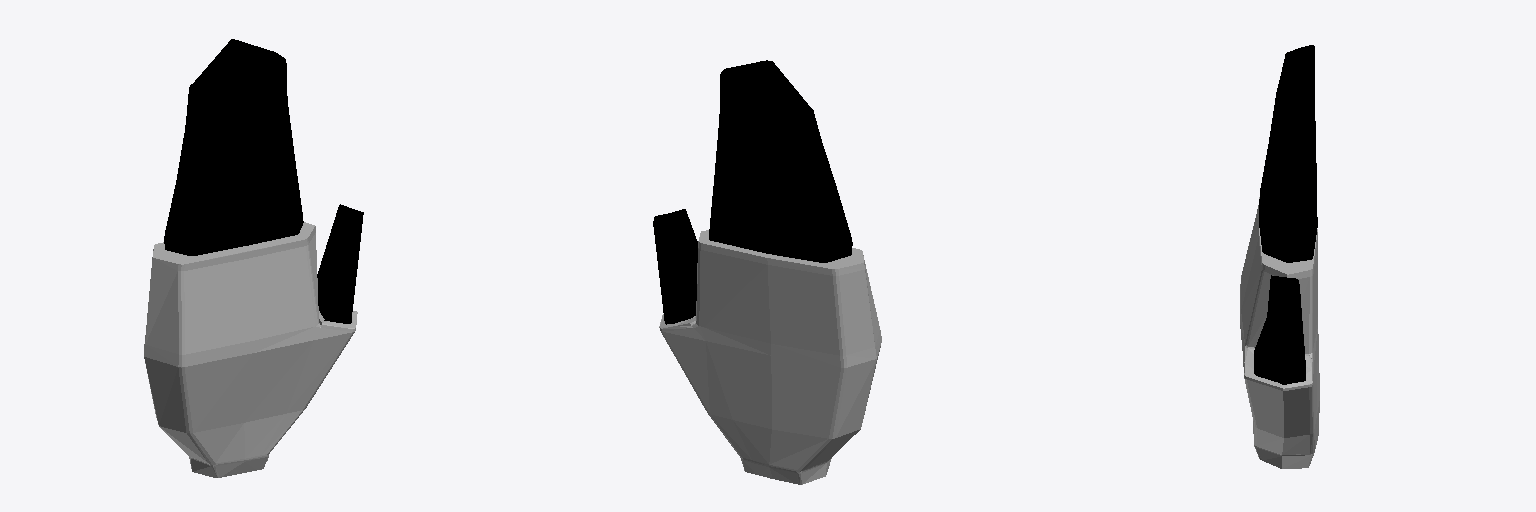
The model's file is Hand_Right.obj.
3 views of the same model, side by side, from view 1: azimuth 30°, elevation 25°; view 2: azimuth 150°, elevation 25°; view 3: azimuth 270°, elevation 25° (orthographic).
Visible parts, largest first — view 1: hand_right, finger_right, thumb_finger_right; view 2: hand_right, finger_right, thumb_finger_right; view 3: hand_right, finger_right, thumb_finger_right.
Boxes of the visible parts, x1,y1,x2,y2 form: hand_right: [144, 222, 357, 477]; finger_right: [164, 39, 303, 255]; thumb_finger_right: [317, 204, 363, 323]; hand_right: [659, 230, 881, 484]; finger_right: [709, 60, 852, 262]; thumb_finger_right: [653, 209, 697, 324]; hand_right: [1240, 197, 1319, 468]; finger_right: [1259, 45, 1317, 262]; thumb_finger_right: [1254, 275, 1305, 384].
Bounding box in the file's own units: 0.5693 × 1.02 × 0.1791.